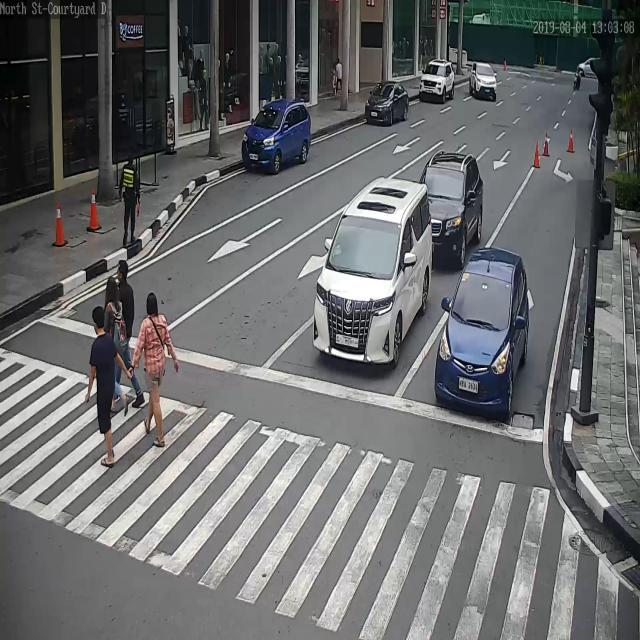car: (437, 248, 534, 417), (421, 151, 484, 273), (241, 98, 312, 176), (365, 79, 410, 129), (419, 60, 455, 105), (469, 62, 498, 101), (577, 54, 601, 77)
jeepney: (572, 63, 583, 96)
van: (312, 178, 434, 368)
